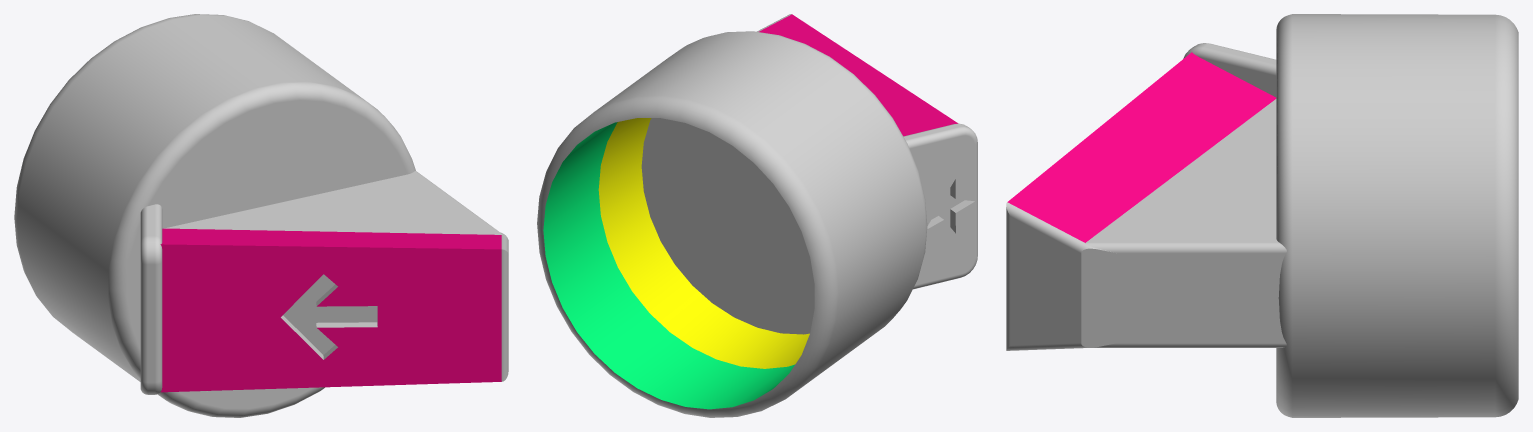
File: 120_static.glb
3 views of the same model, side by side, from view 1: azimuth 30°, elevation 25°; view 2: azimuth 150°, elevation 25°; view 3: azimuth 270°, elevation 25° (orthographic). The views are drawn at different scales.
Parts seen in each view (by area): view 1: Body1; view 2: Body1; view 3: Body1.
Part boxes in pixels (x1=…): Body1: x1=14, y1=14, x2=508, y2=417; Body1: x1=537, y1=14, x2=977, y2=417; Body1: x1=1006, y1=14, x2=1518, y2=417.
Size of the model in its own units: 2.58 by 2.5 by 3.17.
